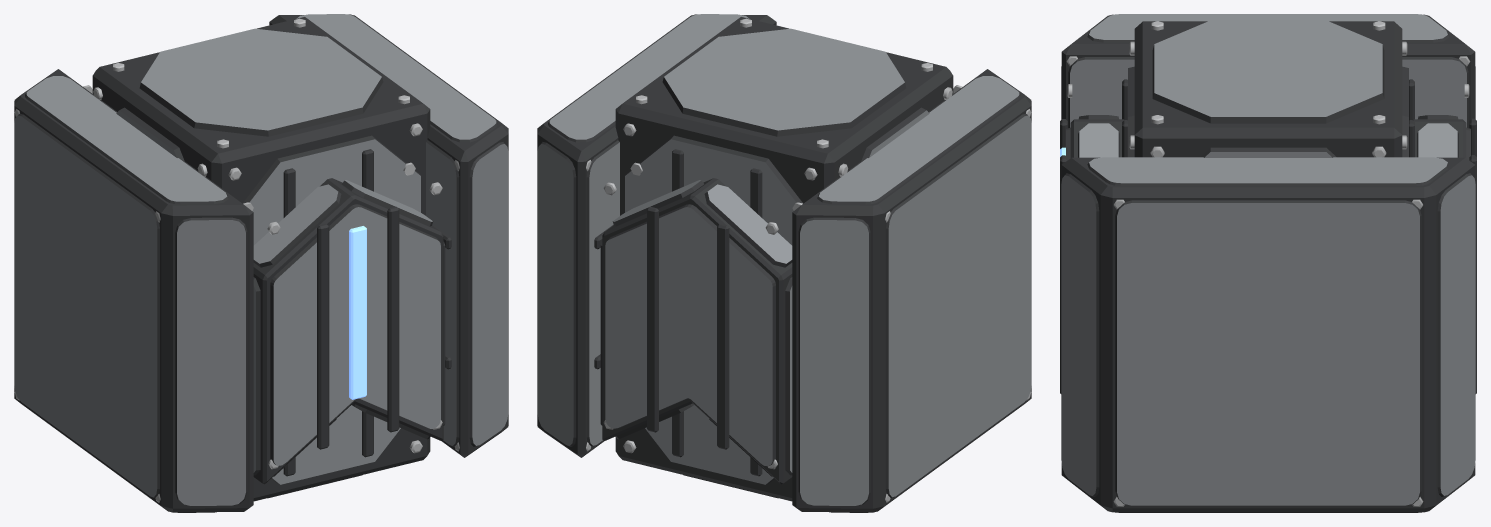
File: R4X_HullBooster.fbx
3 renders of one model, left to right at view 1: azimuth 30°, elevation 25°; view 2: azimuth 150°, elevation 25°; view 3: azimuth 270°, elevation 25°, orthographic. The views are drawn at different scales.
Visible parts, largest first — view 1: R4X_HullBooster_Body; view 2: R4X_HullBooster_Body; view 3: R4X_HullBooster_Body.
Boxes of the visible parts, x1,y1,x2,y2 form: R4X_HullBooster_Body: (14, 14, 508, 512); R4X_HullBooster_Body: (537, 14, 1031, 512); R4X_HullBooster_Body: (1060, 14, 1476, 512).
Bounding box in the file's own units: 0.52 × 0.52 × 0.504.
